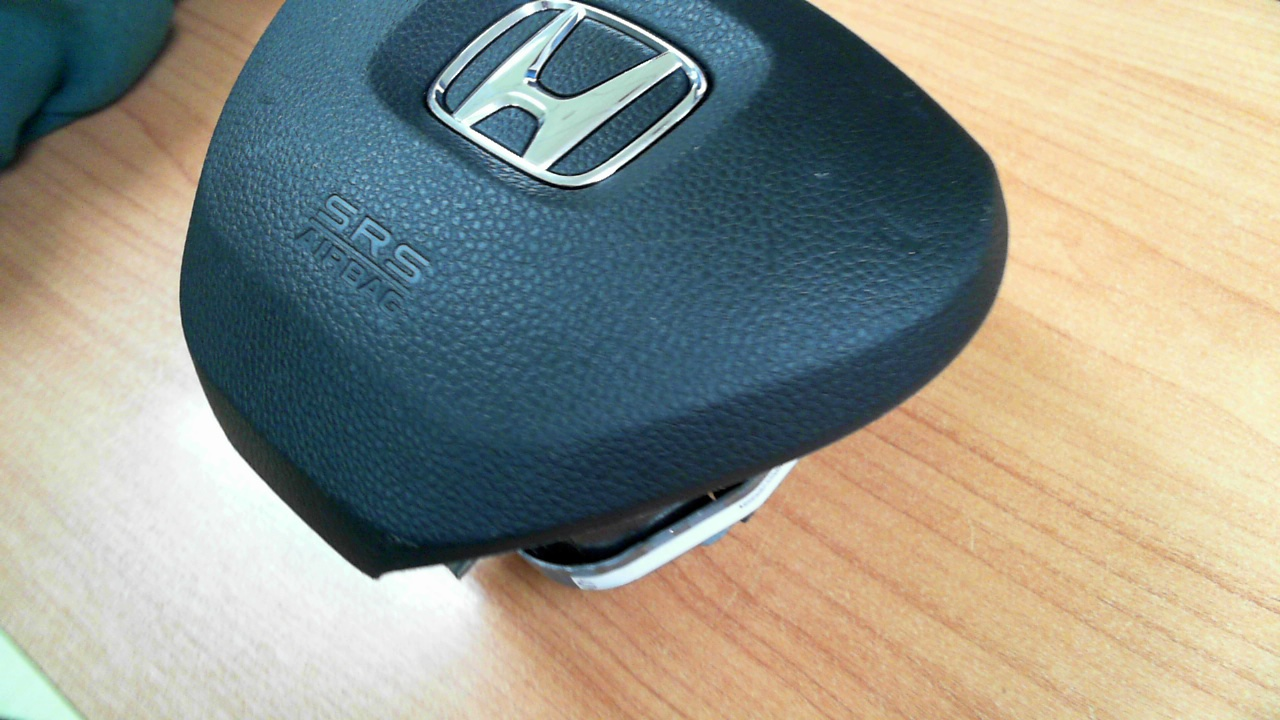Airbag: (177, 0, 1012, 592)
Honda: (426, 0, 708, 188)
